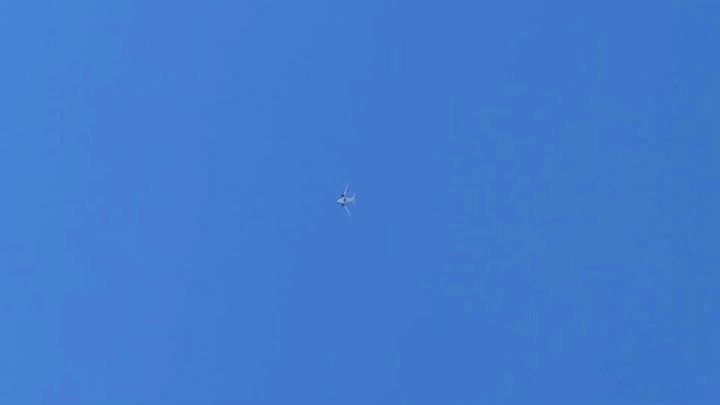Plane: (321, 182, 371, 220)
